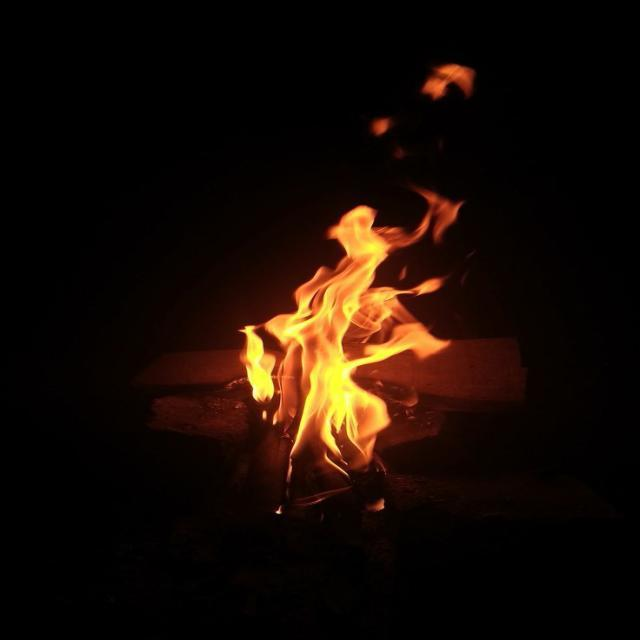Fire: (167, 187, 538, 520)
